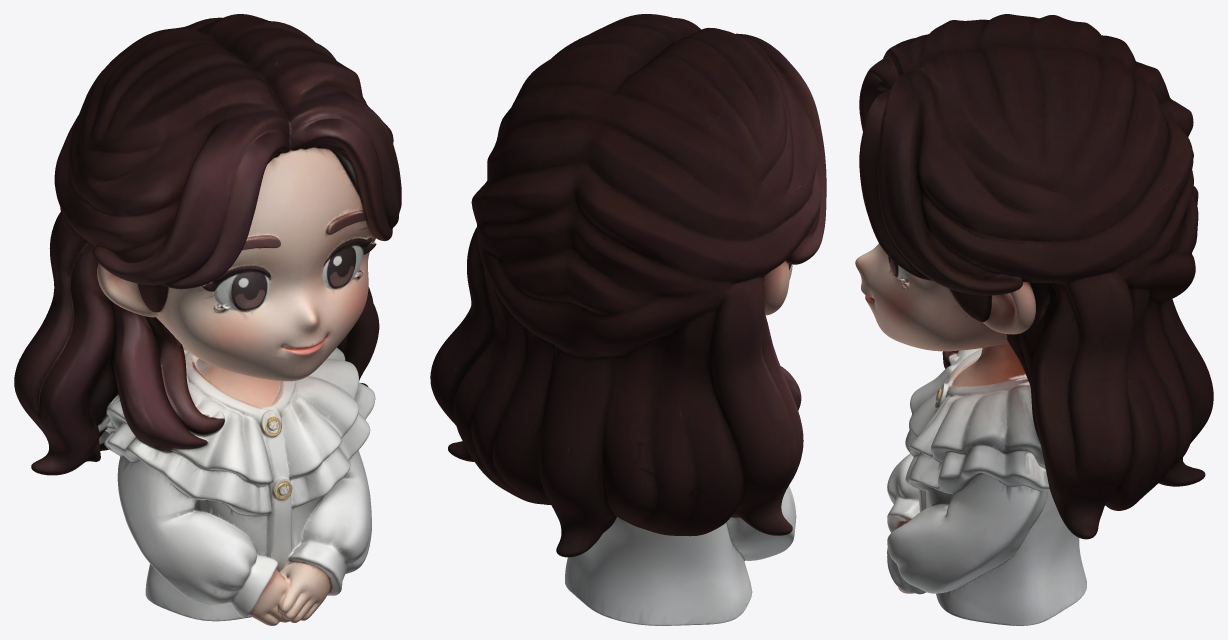
Rendered from 3d-avatar.glb.
3 views of the same model, side by side, from view 1: azimuth 30°, elevation 25°; view 2: azimuth 150°, elevation 25°; view 3: azimuth 270°, elevation 25° (orthographic). The views are drawn at different scales.
Bounding box in the file's own units: 1.28 × 1.9 × 1.12.
1 material, 1 textured.
